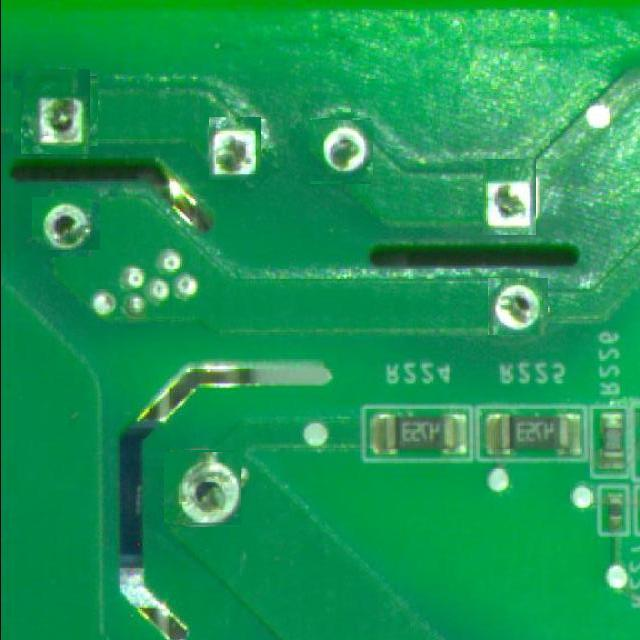lack_of_part: (17, 73, 94, 150), (165, 451, 241, 526), (476, 164, 542, 230), (309, 119, 372, 183), (36, 192, 97, 254), (488, 277, 548, 336), (206, 120, 264, 178)
